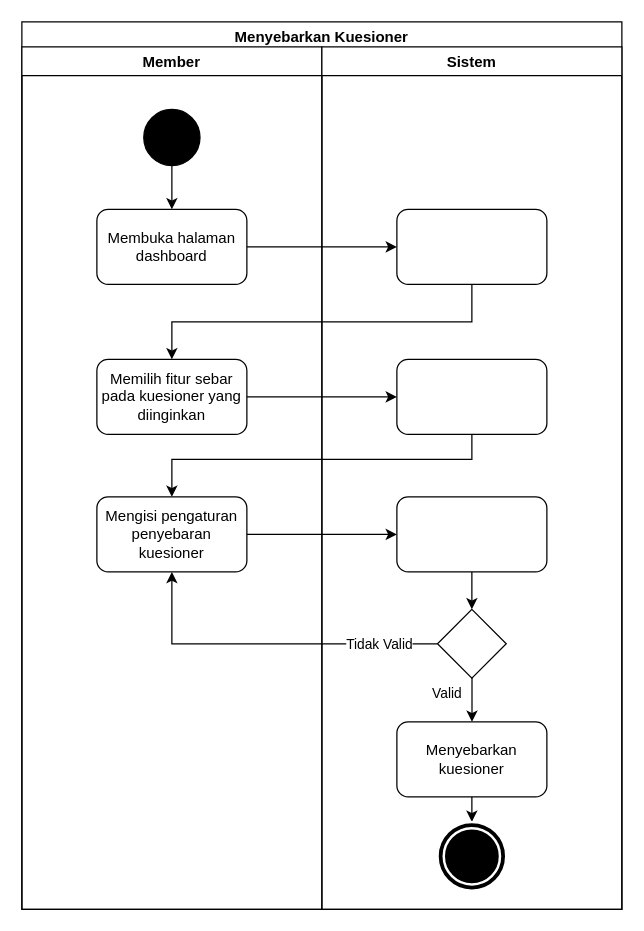
Image size: 644x931. Some labels were removed from this diagram. Each missing label, with the centre of its shape:
"Melakukan validasi data" belongs at [471,534].
"Menampilkan dialog penyebaran kuesioner" belongs at [471,396].
"Menampilkan halaman dashboard" belongs at [471,246].
